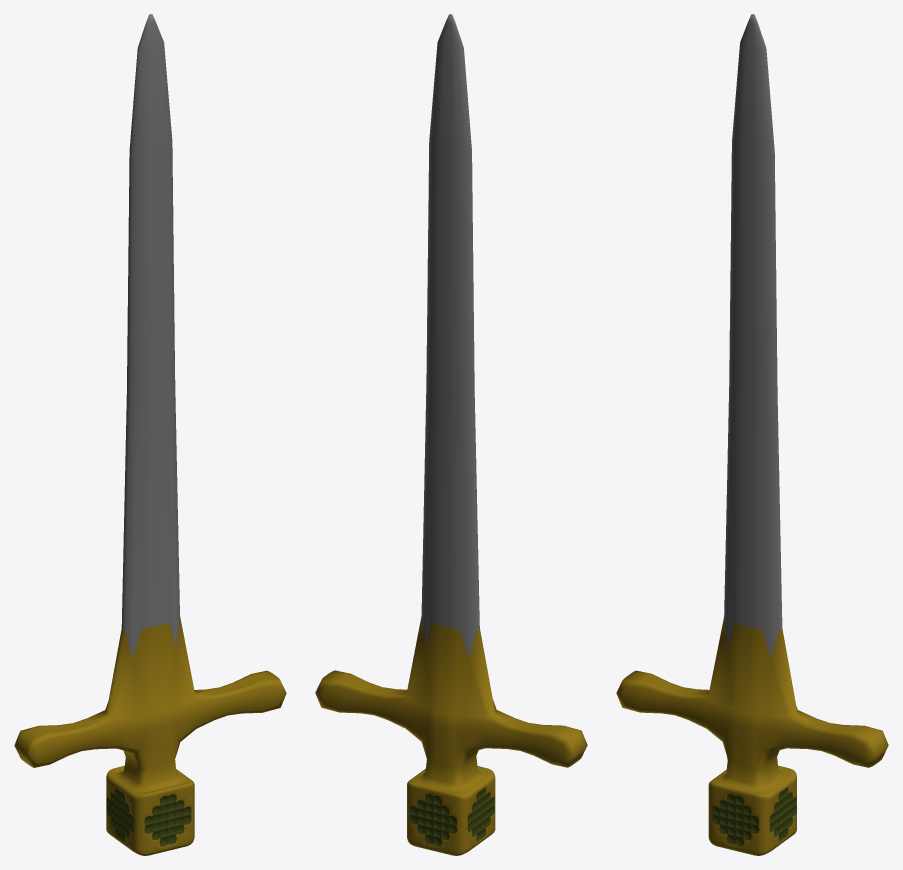
The model's file is Sword.FBX.
3 renders of one model, left to right at view 1: azimuth 30°, elevation 25°; view 2: azimuth 150°, elevation 25°; view 3: azimuth 330°, elevation 25°, orthographic.
Parts seen in each view (by area): view 1: Sword; view 2: Sword; view 3: Sword.
Part boxes in pixels (x1=…): Sword: x1=14, y1=14, x2=286, y2=855; Sword: x1=315, y1=14, x2=587, y2=855; Sword: x1=616, y1=14, x2=888, y2=855.
Size of the model in its own units: 0.175 by 0.5298 by 0.0412.
